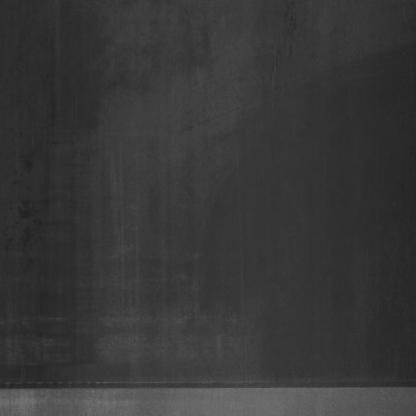welding_line: (0, 369, 416, 400)
